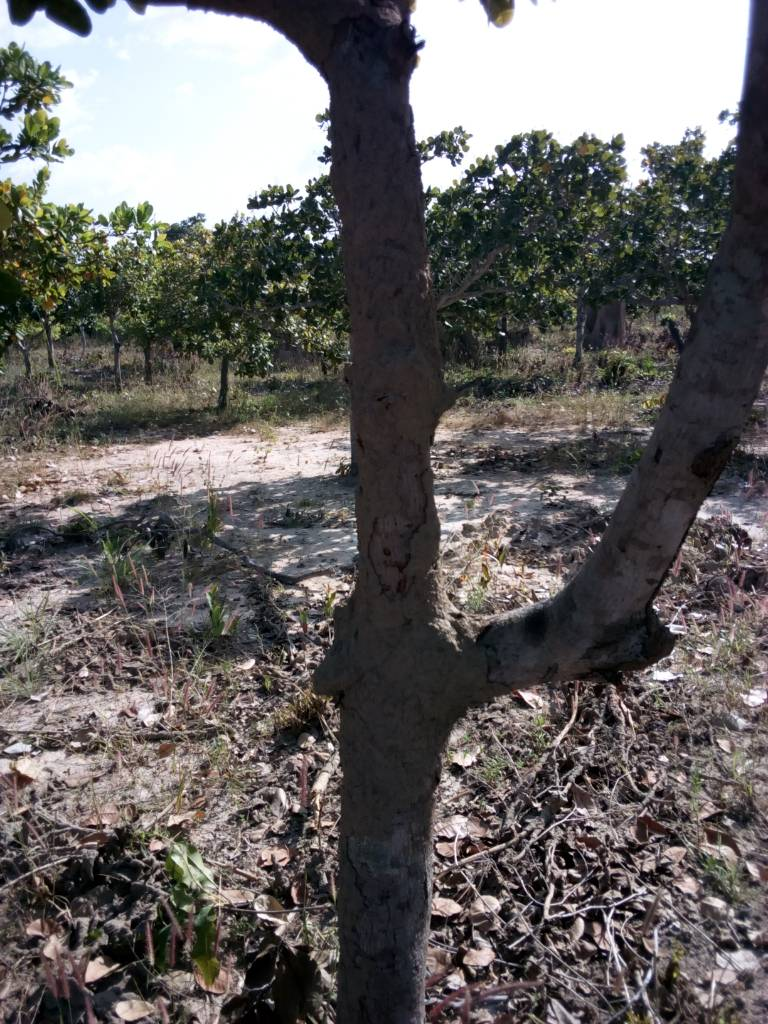Virose: (251, 187, 532, 876)
